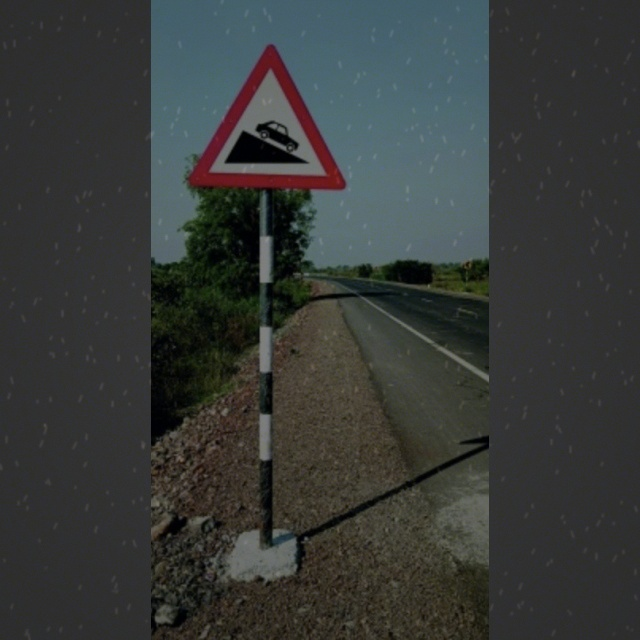Steep_Descent: (194, 47, 345, 197)
